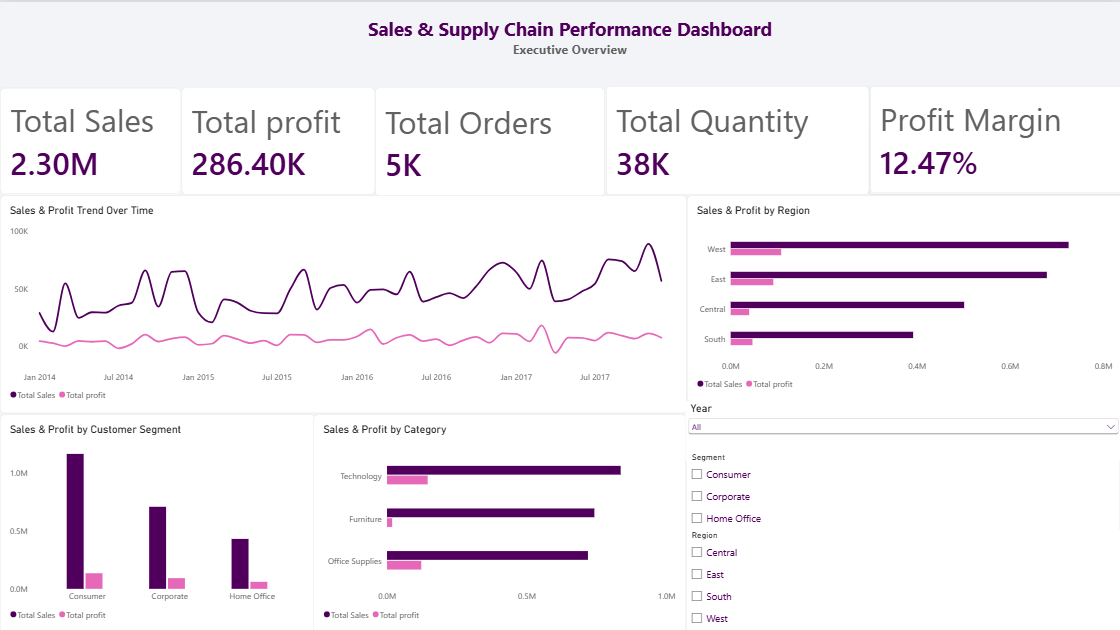

The page's visual inventory and layout, read from the dashboard file:
{"tool":"powerbi","page":{"name":"Executive Overview","canvas":[1920,1080],"ordinal":0},"visuals":[{"type":"cardVisual","fields":{"Data":["Cleaned Sales Data.Total Sales"]},"box":[0,145.5,310.2,183.7],"z":0},{"type":"cardVisual","fields":{"Data":["Cleaned Sales Data.Total profits"]},"box":[310.2,145.5,331.6,183.7],"z":1000},{"type":"cardVisual","fields":{"Data":["Cleaned Sales Data.Total Orders"]},"box":[641.8,145.5,393.7,186.1],"z":2000},{"type":"cardVisual","fields":{"Data":["Cleaned Sales Data.Total Quantity"]},"box":[1035.5,143.2,450.9,186.1],"z":3000},{"type":"cardVisual","fields":{"Data":["Cleaned Sales Data.Profit Margin"]},"box":[1486.4,143.2,434.2,183.7],"z":4000},{"type":"lineChart","title":"Sales & Profit Trend Over Time","fields":{"Category":["Calendar Table.Month & Year"],"Y":["Cleaned Sales Data.Total Sales","Cleaned Sales Data.Total profits"]},"box":[0,331.6,1173.9,372.2],"z":5000},{"type":"clusteredBarChart","title":"Sales & Profit by Region","fields":{"Category":["Cleaned Sales Data.Region"],"Y":["Cleaned Sales Data.Total Sales","Cleaned Sales Data.Total profits"]},"box":[1173.3,330,745,353.3],"z":6000},{"type":"clusteredColumnChart","title":"Sales & Profit by Customer Segment","fields":{"Category":["Cleaned Sales Data.Segment"],"Y":["Cleaned Sales Data.Total Sales","Cleaned Sales Data.Total profits"]},"box":[0,705,540,373.3],"z":7000},{"type":"clusteredBarChart","title":"Sales & Profit by Category","fields":{"Category":["Cleaned Sales Data.Category"],"Y":["Cleaned Sales Data.Total Sales","Cleaned Sales Data.Total profits"]},"box":[536.7,705,636.7,373.3],"z":8000},{"type":"slicer","fields":{"Values":["Calendar Table.Year"]},"box":[1172.5,682.5,745,102.5],"z":9000},{"type":"slicer","fields":{"Values":["Cleaned Sales Data.Segment"]},"box":[1173.3,768.3,738.3,133.3],"z":10000},{"type":"slicer","fields":{"Values":["Cleaned Sales Data.Region"]},"box":[1173.3,901.7,745,176.7],"z":11000},{"type":"textbox","box":[355.5,23.9,1235.9,121.7],"z":12000}]}

Visuals, with their boxes in screenshot pixels (x1, y1, x2, y2), scaled from the page's 1920x1080 canvas onto the 1120x630 screenshot:
cardVisual - Cleaned Sales Data.Total Sales: bbox(0, 85, 181, 192)
cardVisual - Cleaned Sales Data.Total profits: bbox(181, 85, 374, 192)
cardVisual - Cleaned Sales Data.Total Orders: bbox(374, 85, 604, 193)
cardVisual - Cleaned Sales Data.Total Quantity: bbox(604, 84, 867, 192)
cardVisual - Cleaned Sales Data.Profit Margin: bbox(867, 84, 1119, 191)
"Sales & Profit Trend Over Time" lineChart: bbox(0, 193, 685, 411)
"Sales & Profit by Region" clusteredBarChart: bbox(684, 192, 1119, 399)
"Sales & Profit by Customer Segment" clusteredColumnChart: bbox(0, 411, 315, 629)
"Sales & Profit by Category" clusteredBarChart: bbox(313, 411, 684, 629)
slicer - Calendar Table.Year: bbox(684, 398, 1119, 458)
slicer - Cleaned Sales Data.Segment: bbox(684, 448, 1115, 526)
slicer - Cleaned Sales Data.Region: bbox(684, 526, 1119, 629)
textbox: bbox(207, 14, 928, 85)
